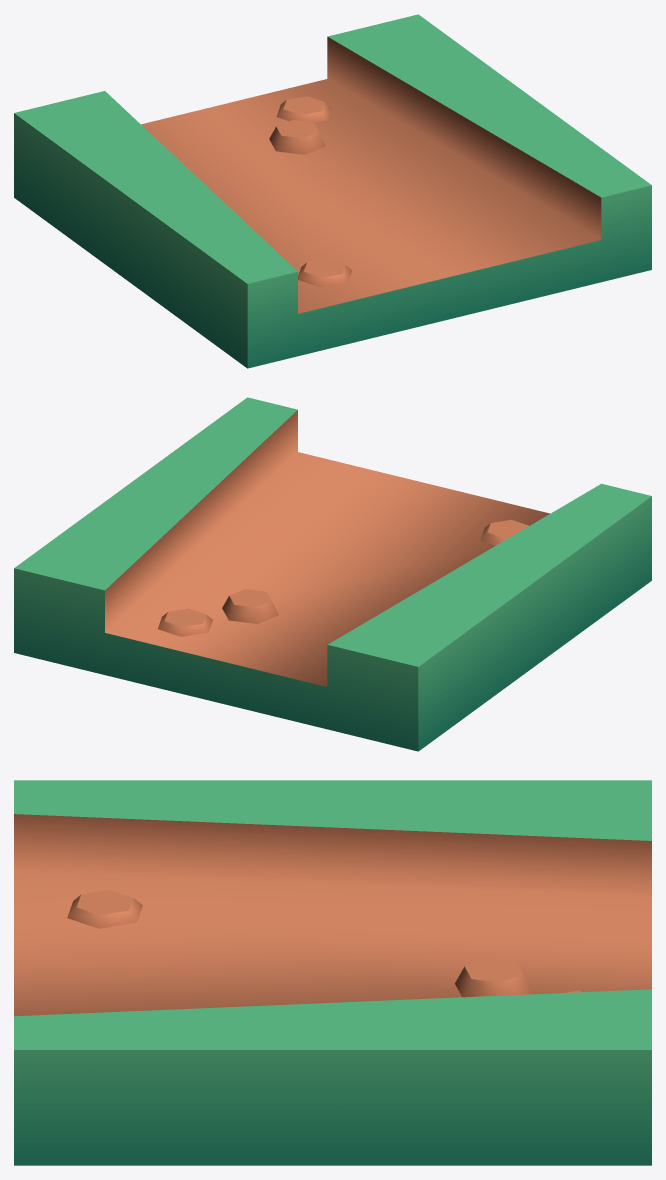
Rendered from tile-transition.fbx.
3 renders of one model, top to bottom at view 1: azimuth 30°, elevation 25°; view 2: azimuth 150°, elevation 25°; view 3: azimuth 270°, elevation 25°, orthographic. The views are drawn at different scales.
Visible parts, largest first — view 1: tile-transition; view 2: tile-transition; view 3: tile-transition.
Boxes of the visible parts, x1,y1,x2,y2 form: tile-transition: (14,14,651,368); tile-transition: (14,397,651,751); tile-transition: (14,780,651,1165).
Bounding box in the file's own units: 100 × 20 × 100.
